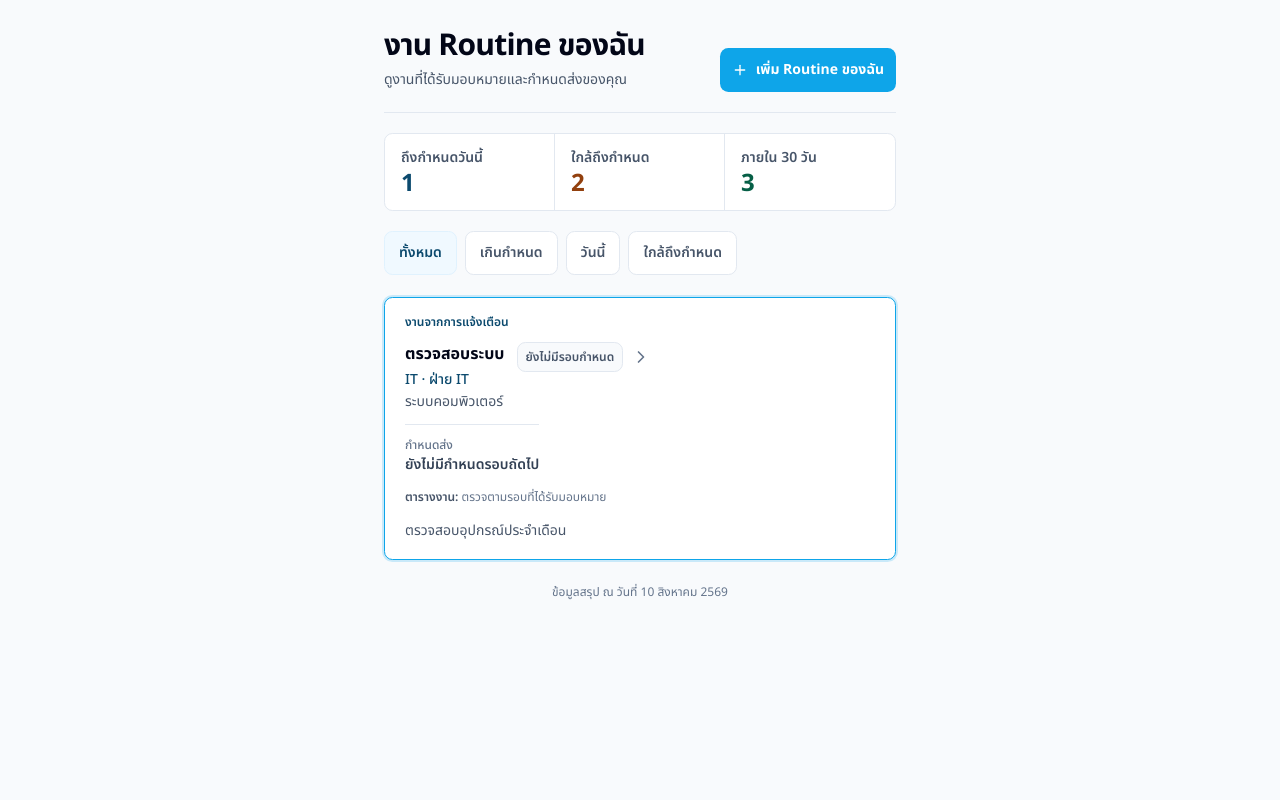
Test case: LiffRoutineApp › shows assigned occurrence detail without master management controls
Expected: the heading "ตรวจสอบระบบ" is shown, [405,342,504,366]
Click the button with aria-label "เปิดรายละเอียดงาน ตรวจสอบระบบ".
click(457, 322)  # box [385,298,895,559]
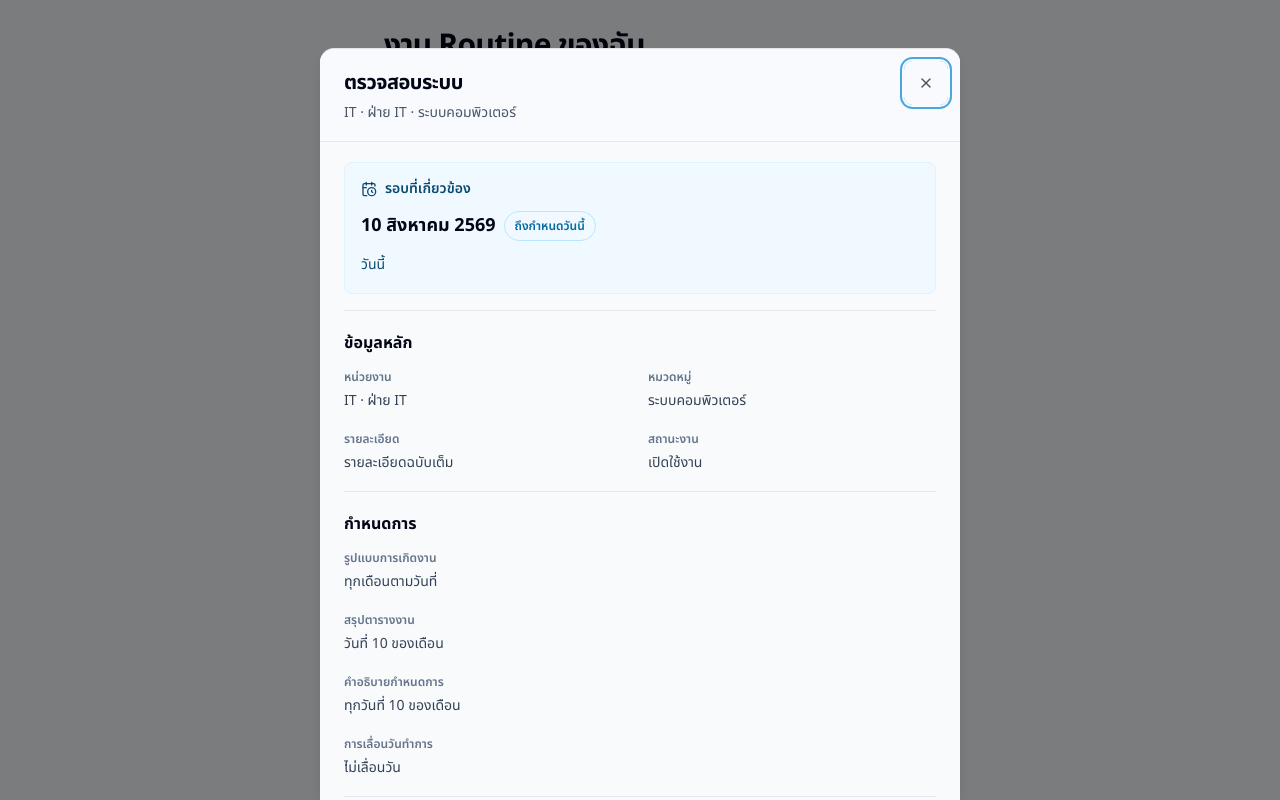
Now the text "รอบที่เกี่ยวข้อง" is shown, box [361,178,471,199]
